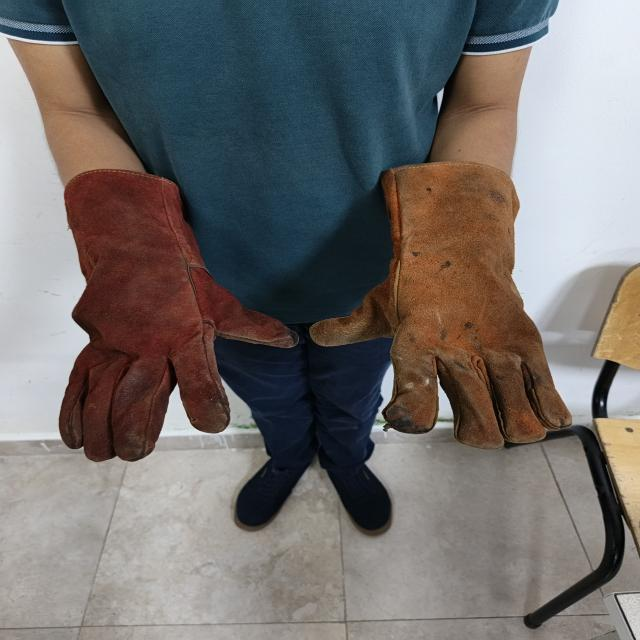gloves: (310, 163, 572, 449), (59, 170, 298, 461)
